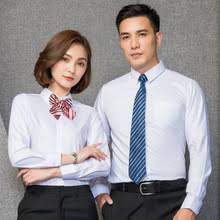F_belt: (107, 180, 191, 199)
F_shirt: (95, 64, 213, 216), (8, 89, 112, 184)
F_tie: (122, 71, 149, 187)
